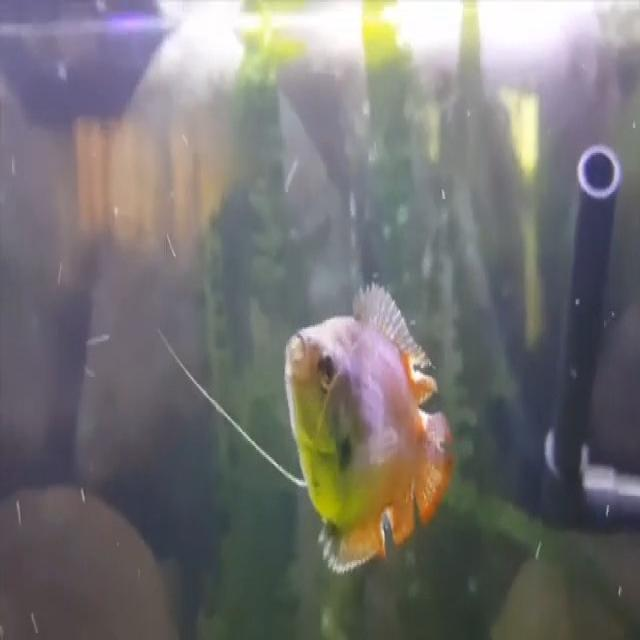fish: (284, 271, 454, 574)
